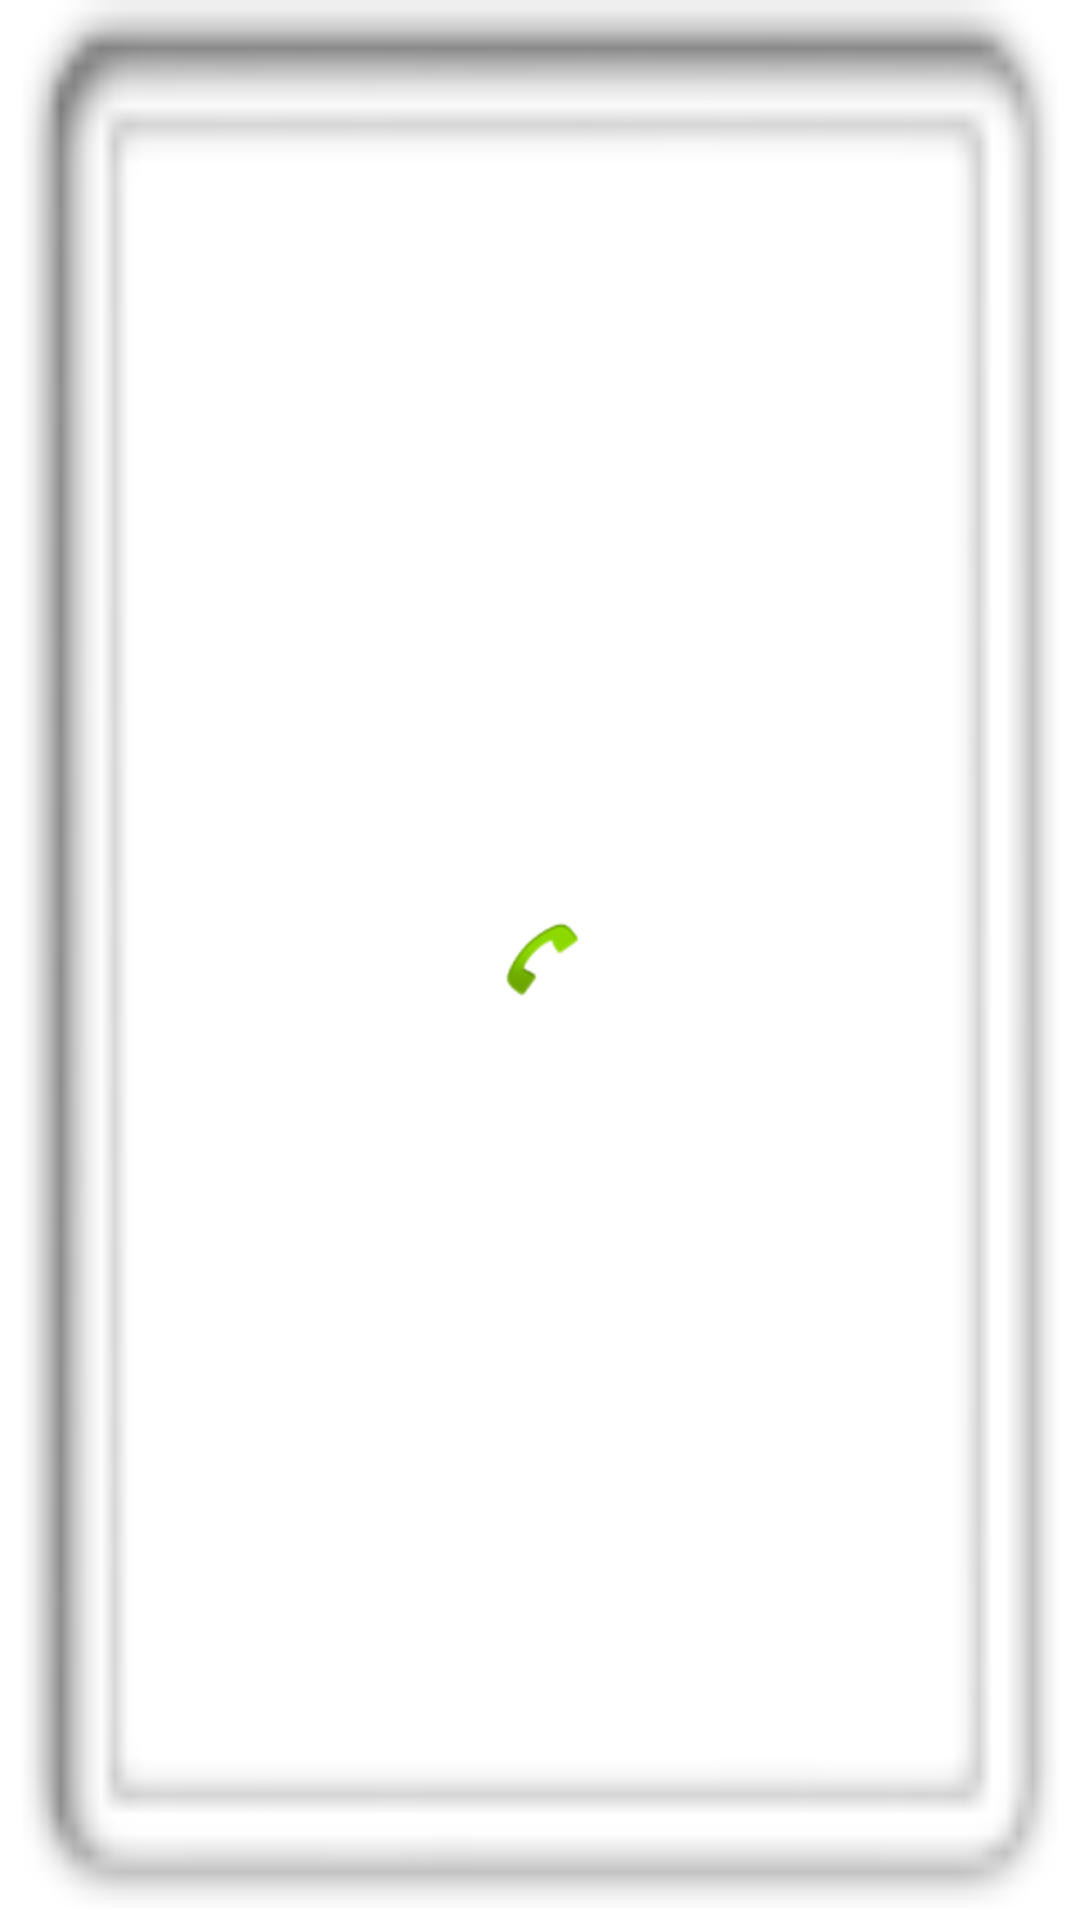

Where to tap for icons on this 1080 x 1920 app screen, as point (x, y):
sym action call: point (542, 959)
